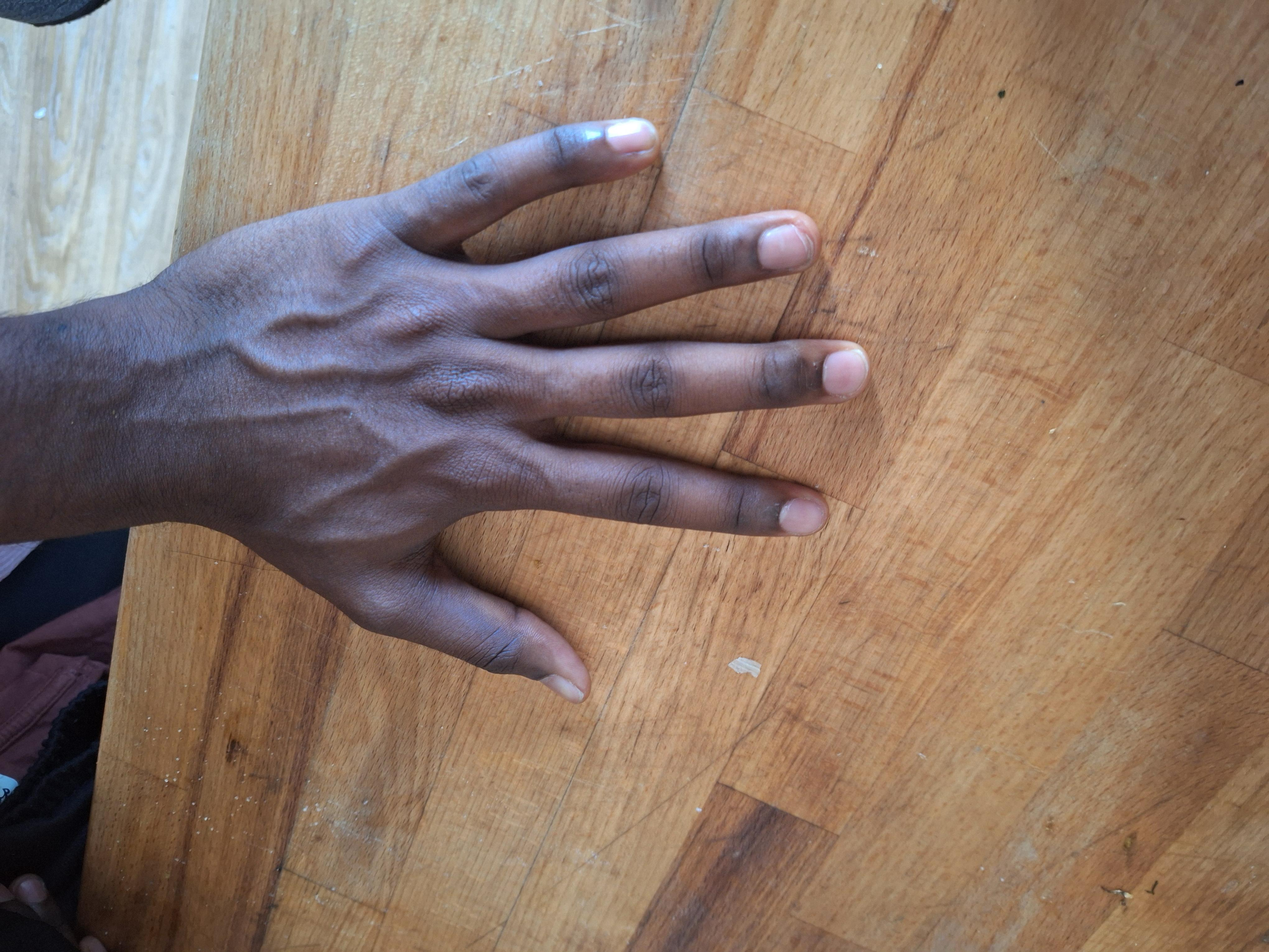Fingernail: (758, 224, 814, 270), (823, 349, 868, 395), (605, 120, 654, 154), (780, 498, 823, 535), (539, 674, 584, 706)
